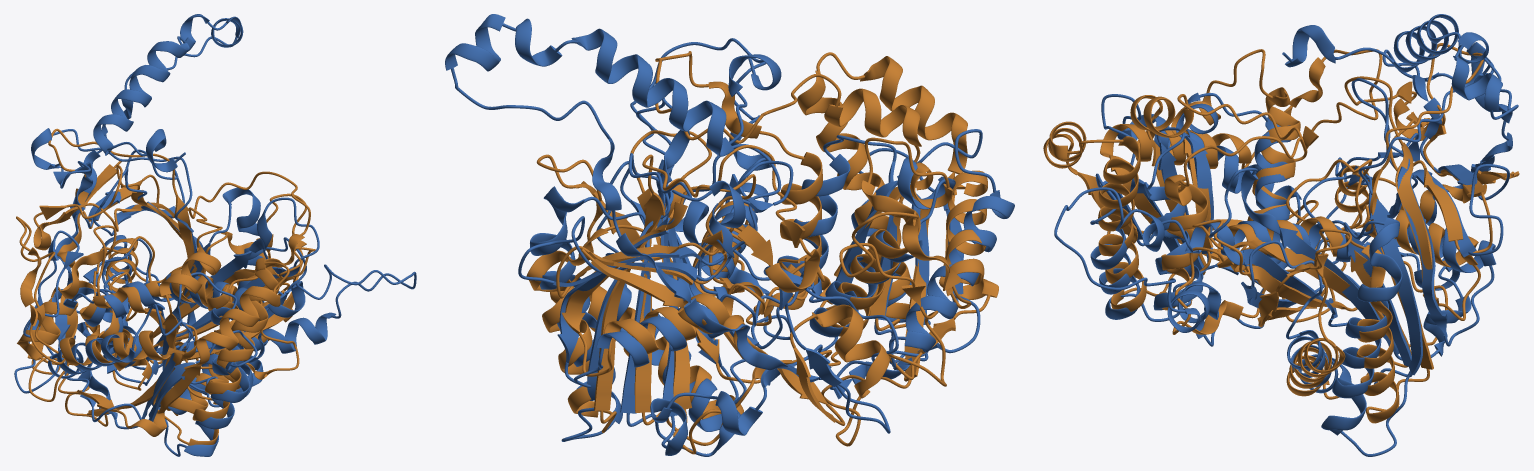
The picture shows the model from 3 angles, left to right: view 1: azimuth 30°, elevation 25°; view 2: azimuth 150°, elevation 25°; view 3: azimuth 270°, elevation 25°; orthographic projection. The views are drawn at different scales.
Size of the model in its own units: 59.84 by 63.48 by 65.18.
